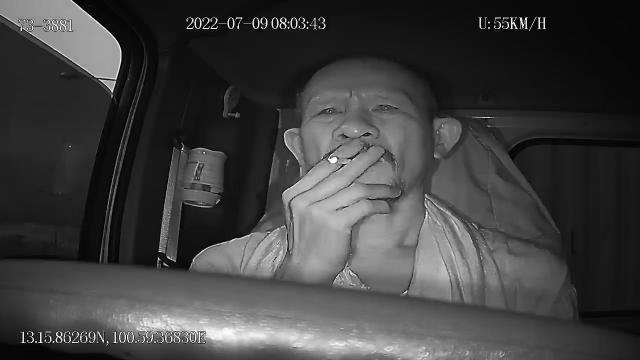SafeDriving: (308, 97, 348, 124), (365, 94, 406, 118)
Smoking: (326, 156, 354, 164)
